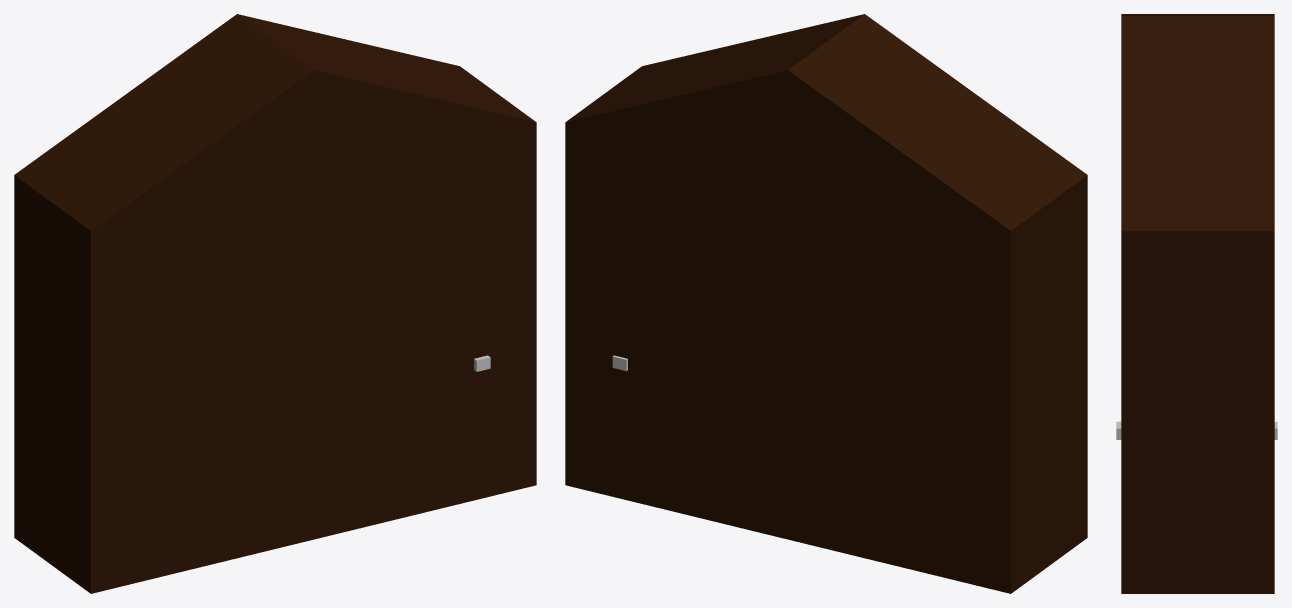
Rendered from Door.obj.
3 views of the same model, side by side, from view 1: azimuth 30°, elevation 25°; view 2: azimuth 150°, elevation 25°; view 3: azimuth 270°, elevation 25° (orthographic).
Parts seen in each view (by area): view 1: Cube; view 2: Cube; view 3: Cube.
Boxes of the visible parts, bbox=[...] form: Cube: bbox=[14, 14, 536, 593]; Cube: bbox=[565, 14, 1087, 593]; Cube: bbox=[1116, 14, 1277, 593].
Bounding box in the file's own units: 4.97 × 5.01 × 1.56.
